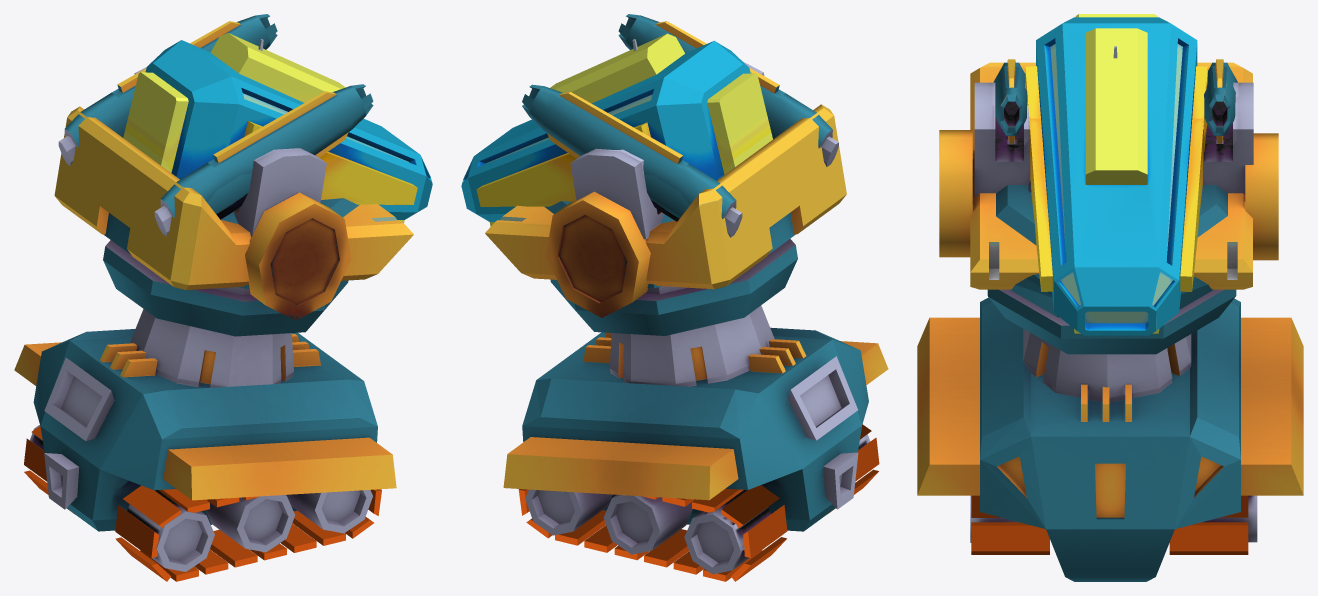
File: Player_moving_upgrade19.obj
3 views of the same model, side by side, from view 1: azimuth 30°, elevation 25°; view 2: azimuth 150°, elevation 25°; view 3: azimuth 270°, elevation 25° (orthographic). The views are drawn at different scales.
Parts seen in each view (by area): view 1: Object015, Object014, Box009, Box017, Box016; view 2: Object015, Object014, Box009, Box016, Box017; view 3: Object015, Object014, Box017, Box016, Box009.
Boxes of the visible parts, left/top/right/bottom form: Object015: left=14, top=33, right=432, bottom=531; Object014: left=58, top=14, right=373, bottom=236; Box009: left=30, top=425, right=372, bottom=571; Box017: left=115, top=485, right=381, bottom=581; Box016: left=24, top=426, right=73, bottom=513; Object015: left=461, top=33, right=888, bottom=531; Object014: left=522, top=14, right=838, bottom=237; Box009: left=525, top=434, right=870, bottom=574; Box016: left=518, top=485, right=787, bottom=581; Box017: left=827, top=424, right=879, bottom=514; Object015: left=917, top=14, right=1303, bottom=581; Object014: left=993, top=59, right=1237, bottom=143; Box017: left=971, top=495, right=1049, bottom=554; Box016: left=1169, top=495, right=1248, bottom=554; Box009: left=970, top=495, right=1257, bottom=542.
Size of the model in its own units: 70.38 by 88.9 by 59.78.
Materials: 5 (3 with a texture image).
